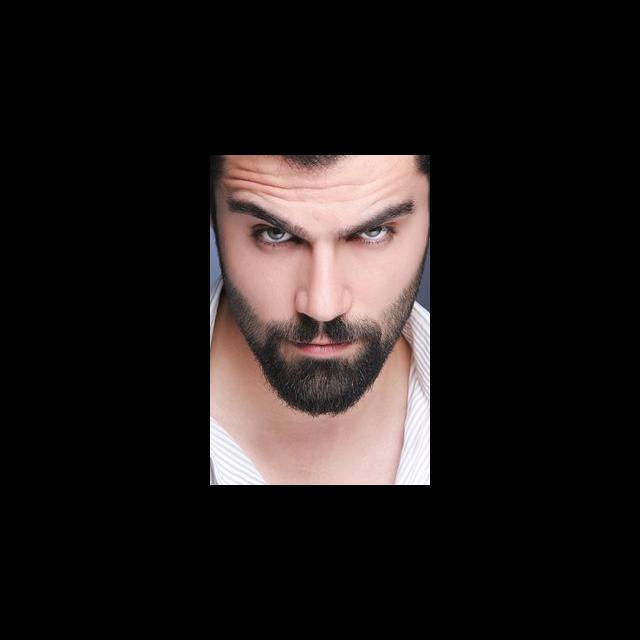male: (219, 155, 427, 431)
